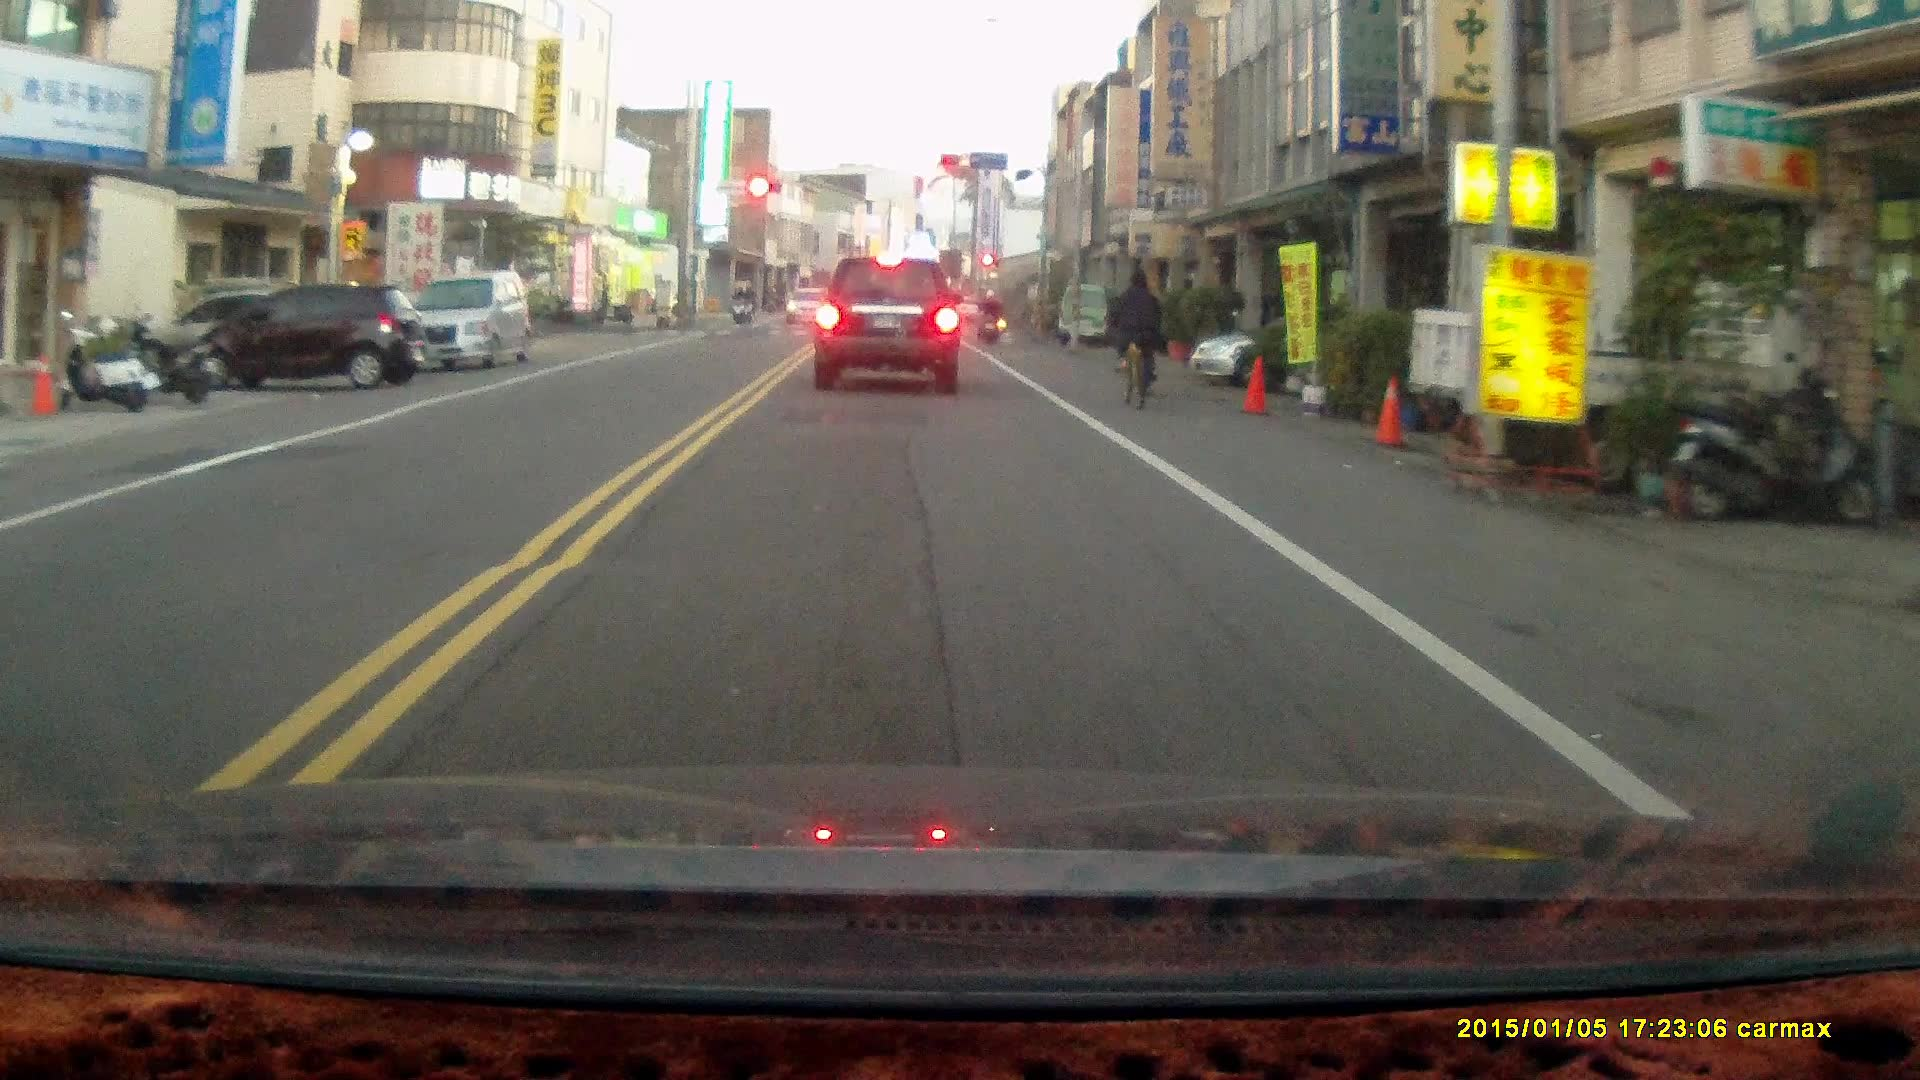rider: (1108, 261, 1165, 407), (973, 286, 1002, 346), (729, 280, 752, 324)
vehicle: (199, 282, 424, 393), (812, 258, 966, 400), (1189, 315, 1439, 397), (386, 274, 529, 375)
